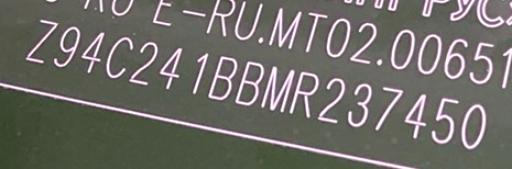letter: (258, 65, 296, 114), (23, 16, 59, 66), (372, 85, 406, 133), (232, 60, 266, 107), (206, 53, 238, 102), (288, 71, 320, 118), (314, 78, 346, 125), (429, 97, 459, 145), (128, 40, 158, 87), (105, 35, 135, 80), (459, 102, 487, 150), (52, 24, 80, 70), (402, 91, 428, 139), (346, 82, 372, 129), (79, 30, 105, 75), (157, 46, 183, 91), (190, 51, 210, 96)
